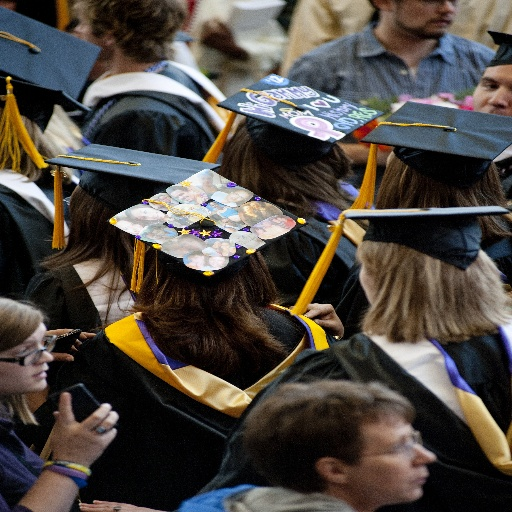hand: (21, 386, 106, 500), (45, 326, 96, 364), (289, 302, 346, 336), (78, 499, 158, 511)
